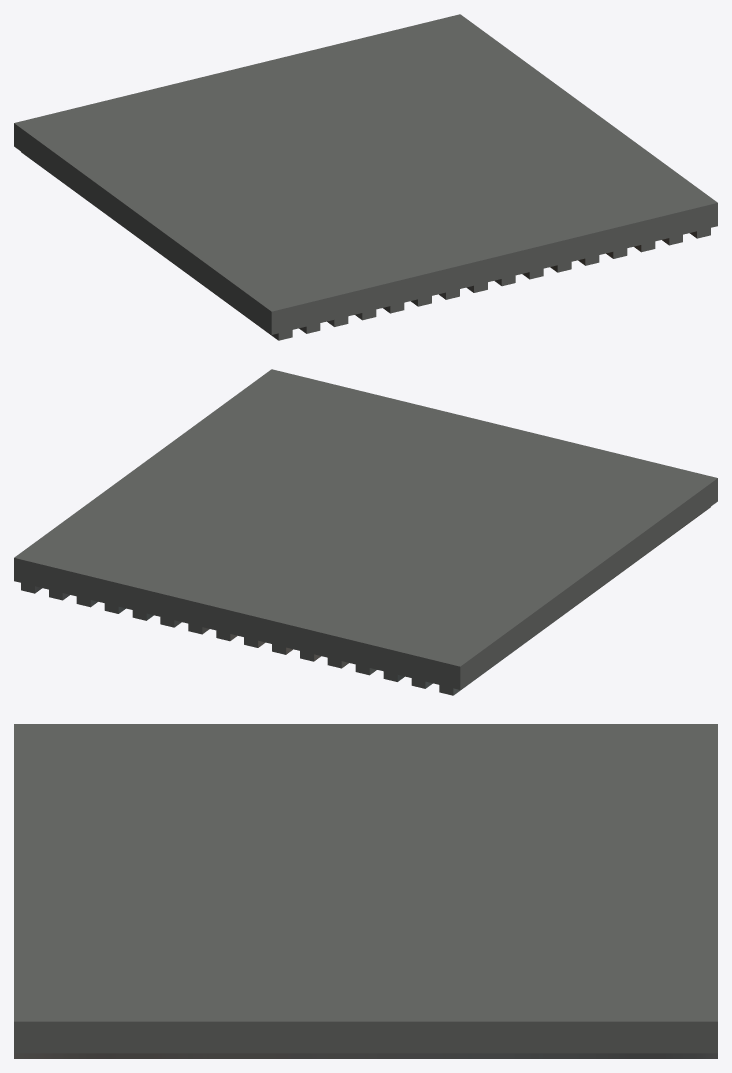
File: ceil.glb
3 views of the same model, one above another, from view 1: azimuth 30°, elevation 25°; view 2: azimuth 150°, elevation 25°; view 3: azimuth 270°, elevation 25° (orthographic). The views are drawn at different scales.
Visible parts, largest first — view 1: Cube; view 2: Cube; view 3: Cube.
Boxes of the visible parts, <box> form: Cube: <box>14,14,717,340</box>; Cube: <box>14,369,717,695</box>; Cube: <box>14,724,717,1058</box>.
Bounding box in the file's own units: 2 × 0.132 × 2.
1 material, 1 textured.
